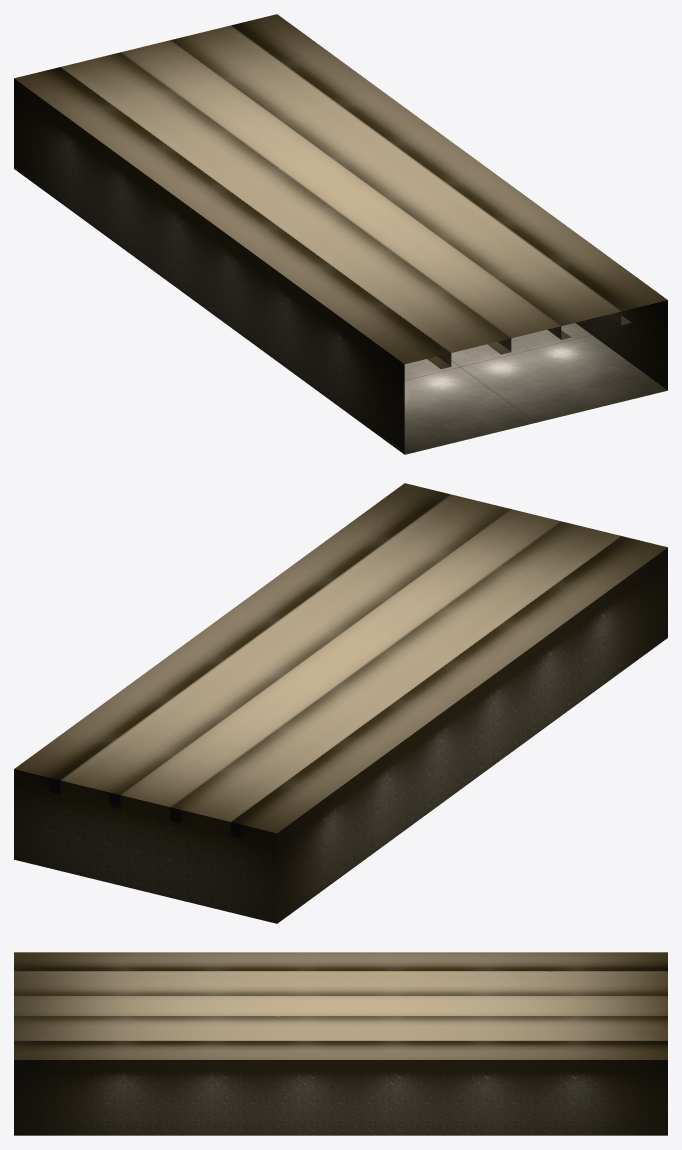
Rendered from env_indoor_04.glb.
3 renders of one model, top to bottom at view 1: azimuth 30°, elevation 25°; view 2: azimuth 150°, elevation 25°; view 3: azimuth 270°, elevation 25°, orthographic. The views are drawn at different scales.
Parts seen in each view (by area): view 1: ceiling, wall_l, floor, wall_r; view 2: ceiling, wall_l, wall_back; view 3: ceiling, wall_r.
Part boxes in pixels (<box>): ceiling: <box>14,14,667,369</box>; wall_l: <box>14,78,404,454</box>; floor: <box>404,323,667,454</box>; wall_r: <box>575,300,667,390</box>; ceiling: <box>14,483,667,833</box>; wall_l: <box>277,547,667,923</box>; wall_back: <box>14,769,277,923</box>; ceiling: <box>14,952,667,1059</box>; wall_r: <box>14,1060,667,1135</box>.
Size of the model in its own units: 14 by 4.6 by 36.
Materials: 6 (5 with a texture image).
